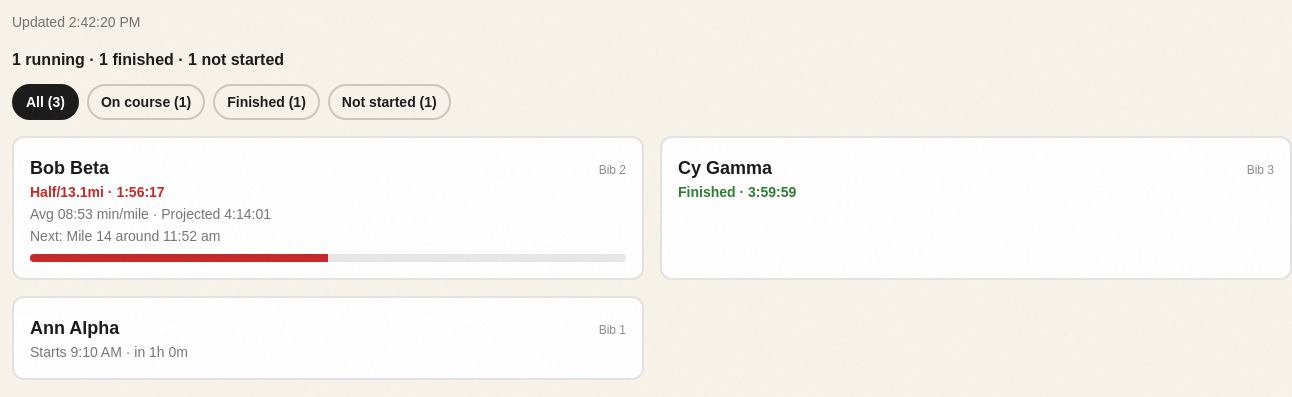
MarathonTracker › filters to runners on the course
Expected: the text "Half/13.1mi · 1:56:17" is shown, left=30, top=184, right=165, bottom=200
Click the button "On course (1)".
click(146, 102)  # box left=87, top=84, right=205, bottom=120
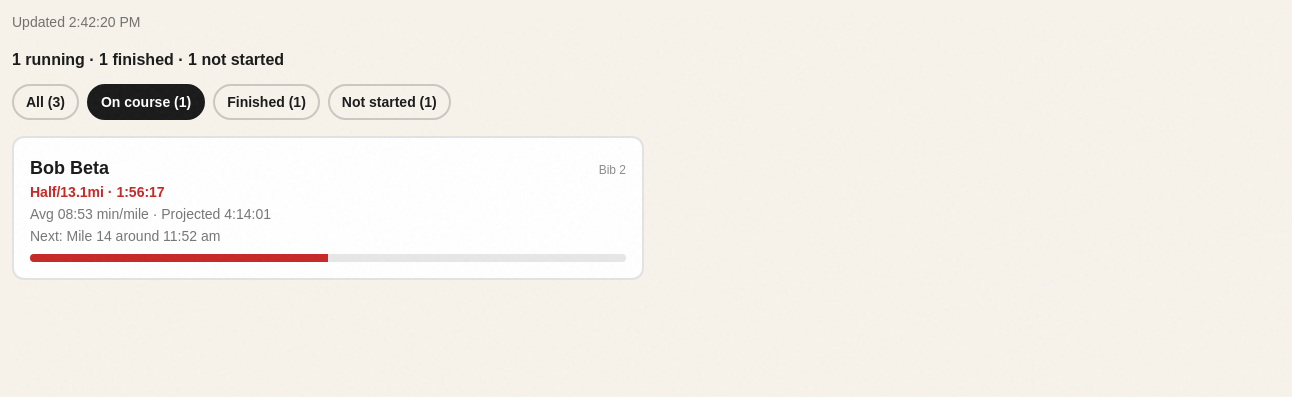
Expected: the heading "Bob Beta" is shown, left=30, top=154, right=109, bottom=182
Now the heading "Ann Alpha" is gone
Now the heading "Cy Gamma" is gone
Click the button "All (3)".
click(45, 102)  # box left=12, top=84, right=79, bottom=120
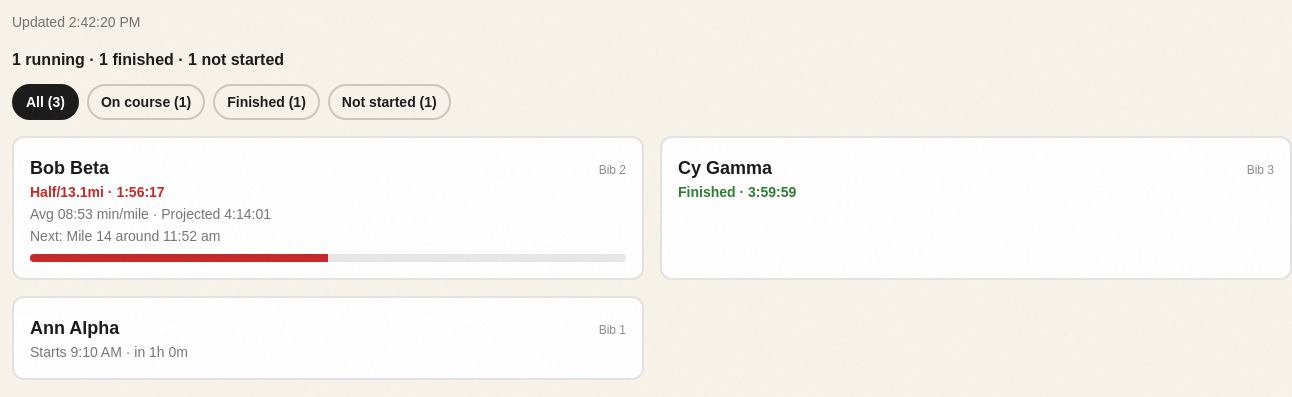
Now the heading "Ann Alpha" is shown, box left=30, top=314, right=119, bottom=342
